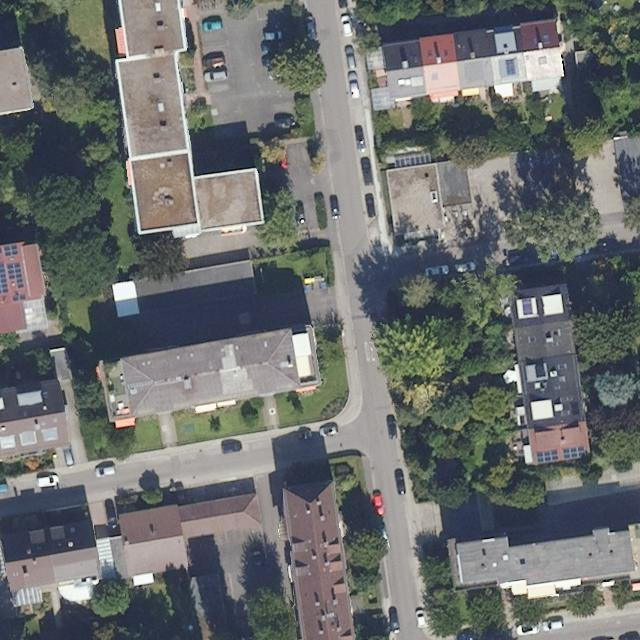PV: (6, 262, 25, 288), (537, 449, 559, 464), (563, 447, 585, 461), (0, 263, 9, 294), (3, 243, 18, 257), (504, 59, 516, 76), (12, 294, 26, 302)
